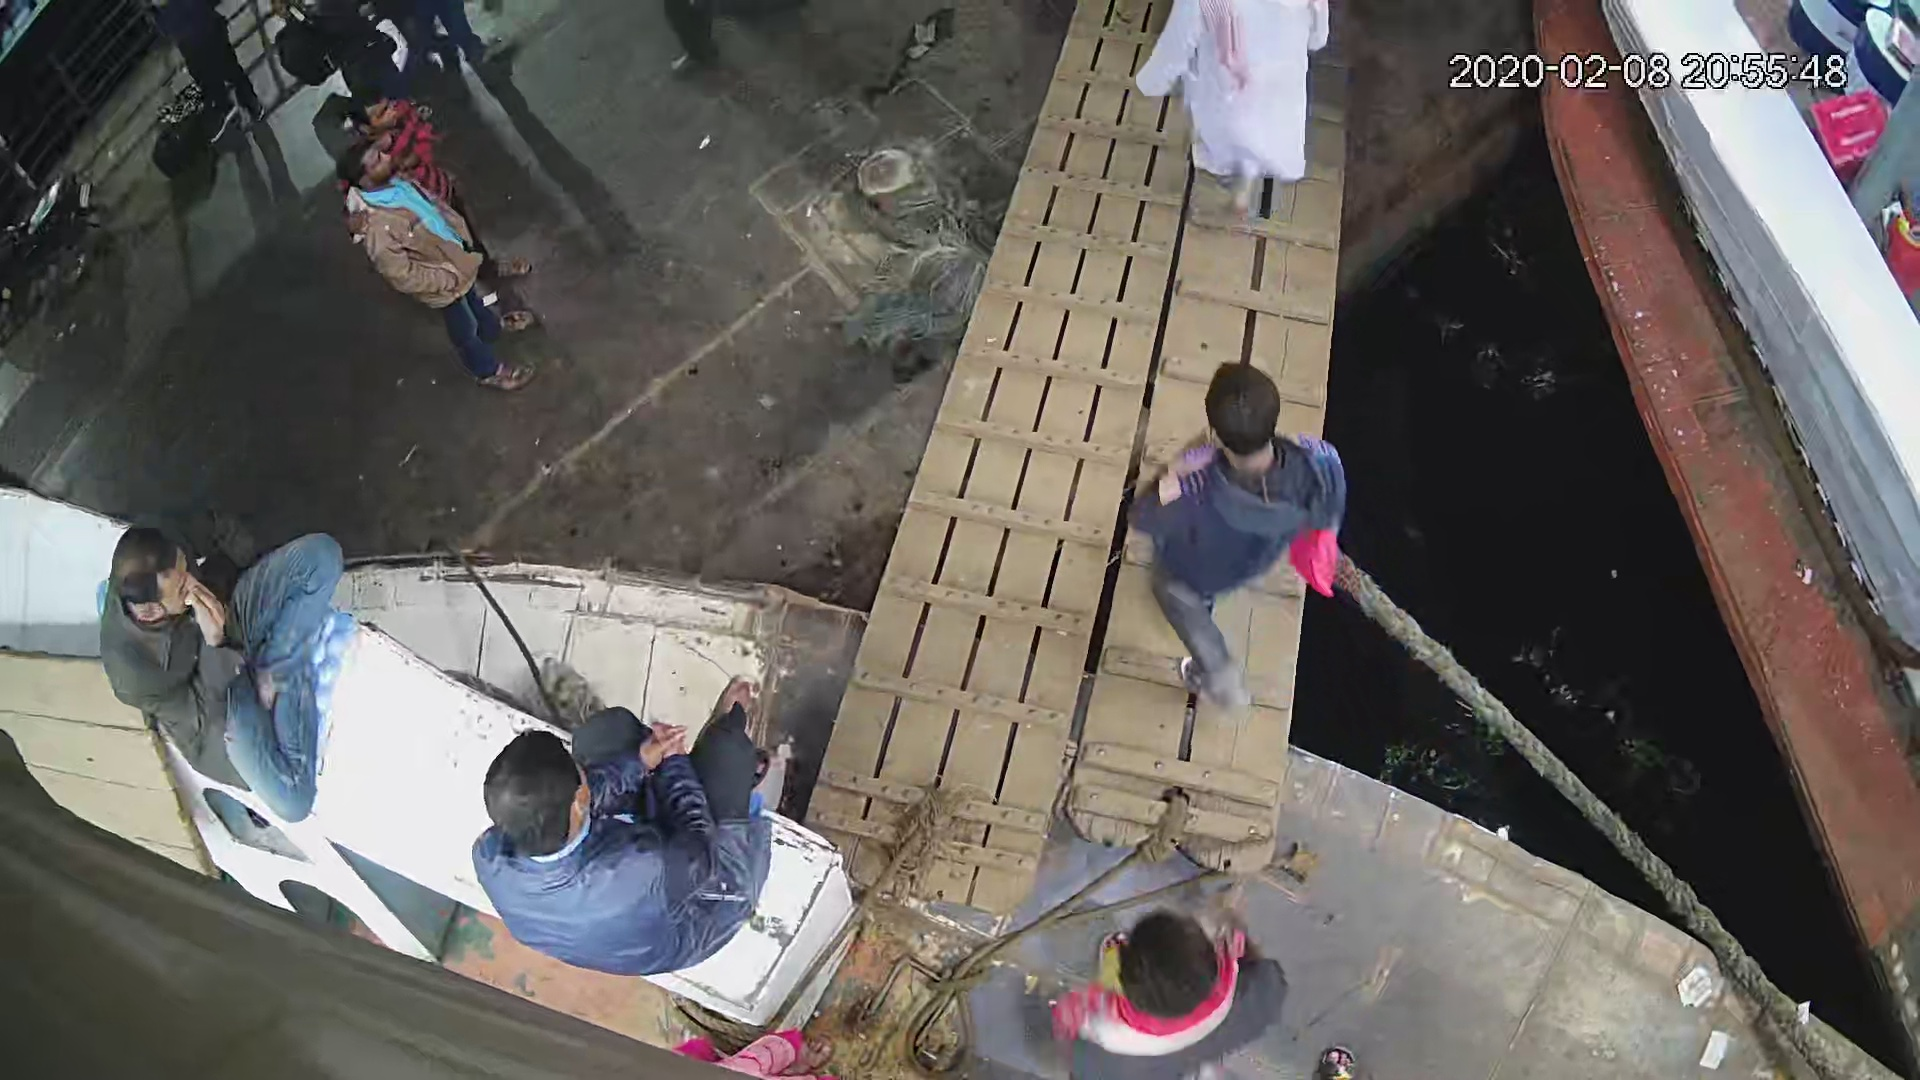person: (475, 670, 778, 980), (1117, 358, 1352, 722), (93, 497, 347, 828), (330, 142, 542, 396), (1024, 894, 1293, 1074), (1129, 1, 1336, 222)
